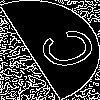C: (25, 25, 100, 77)
